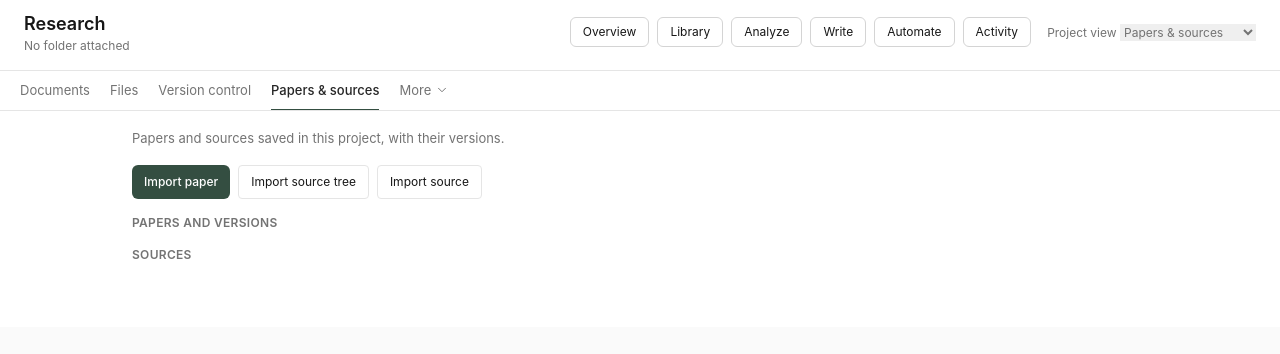
it: clears the banner when a retried action succeeds
Step 1. Click the button "Import paper" → [181, 182], box [132,164,230,198]
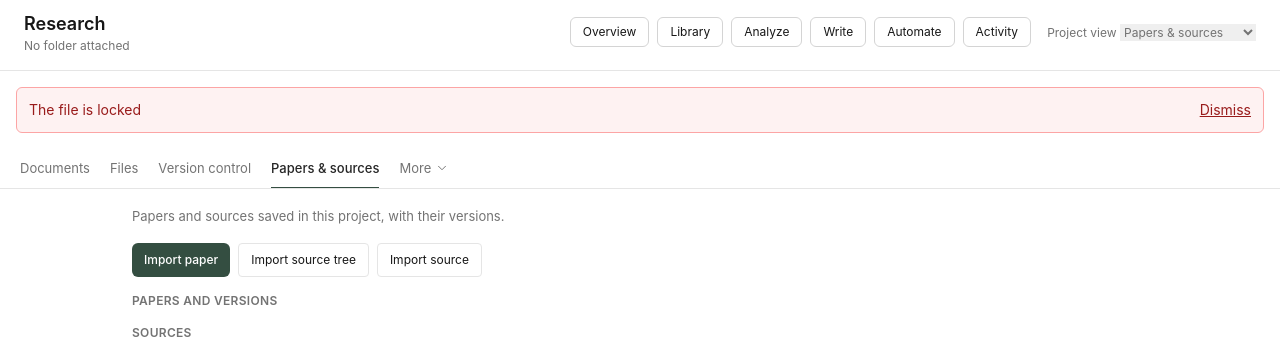
Now the message shows "The file is locked", box [29,101,141,118]
Step 2. Click the button "Import paper" → [181, 260], box [132,242,230,276]
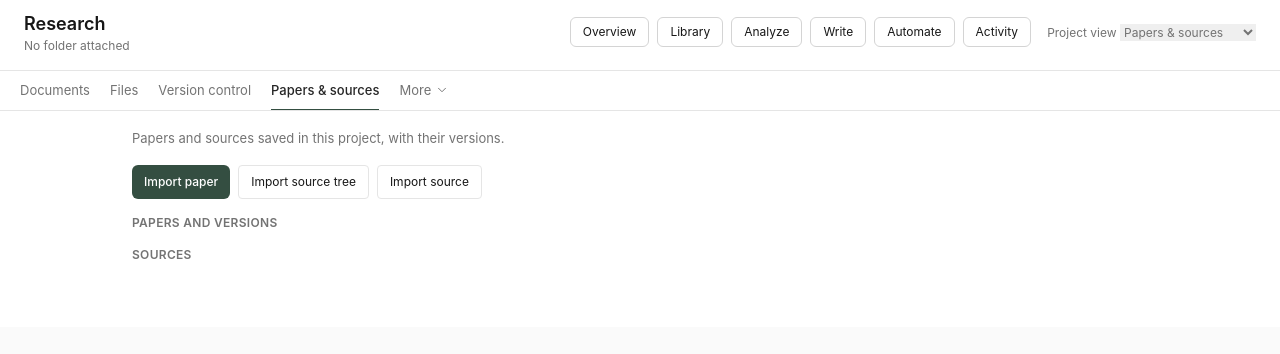
Now the message "The file is locked Dismiss" is gone
